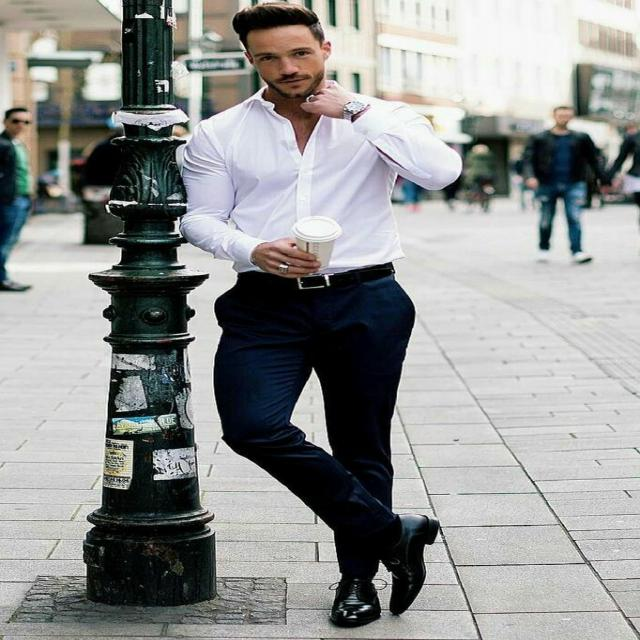male-dress: (190, 89, 476, 599), (194, 263, 454, 599), (177, 94, 476, 277)
